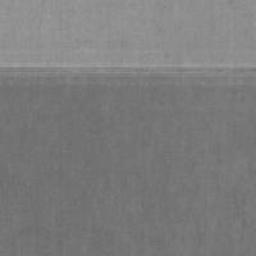Welding line: (0, 65, 256, 73)
